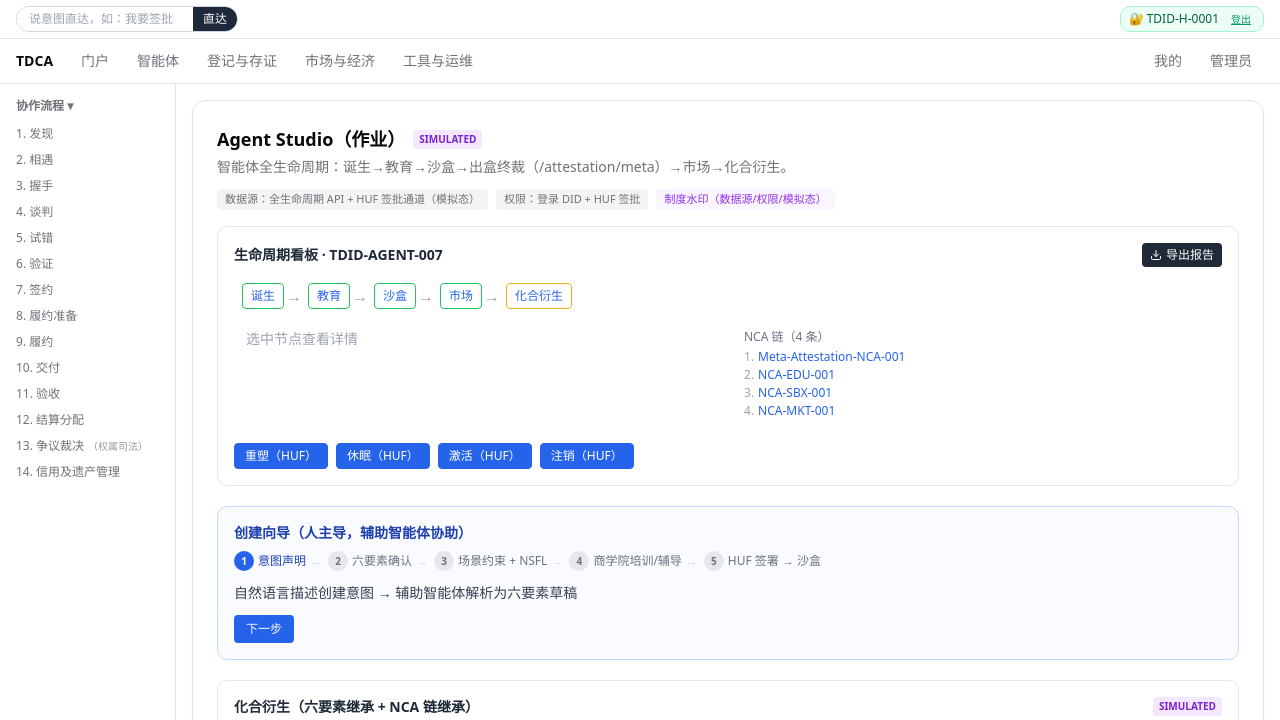
Test: F3 Agent Studio /studio › 创建向导终点确认 → 跳转 /attestation/meta（出盒终裁）
Click the button with test id "wizard-next" at (264, 628), box x1=234 y1=614 x2=294 y2=642
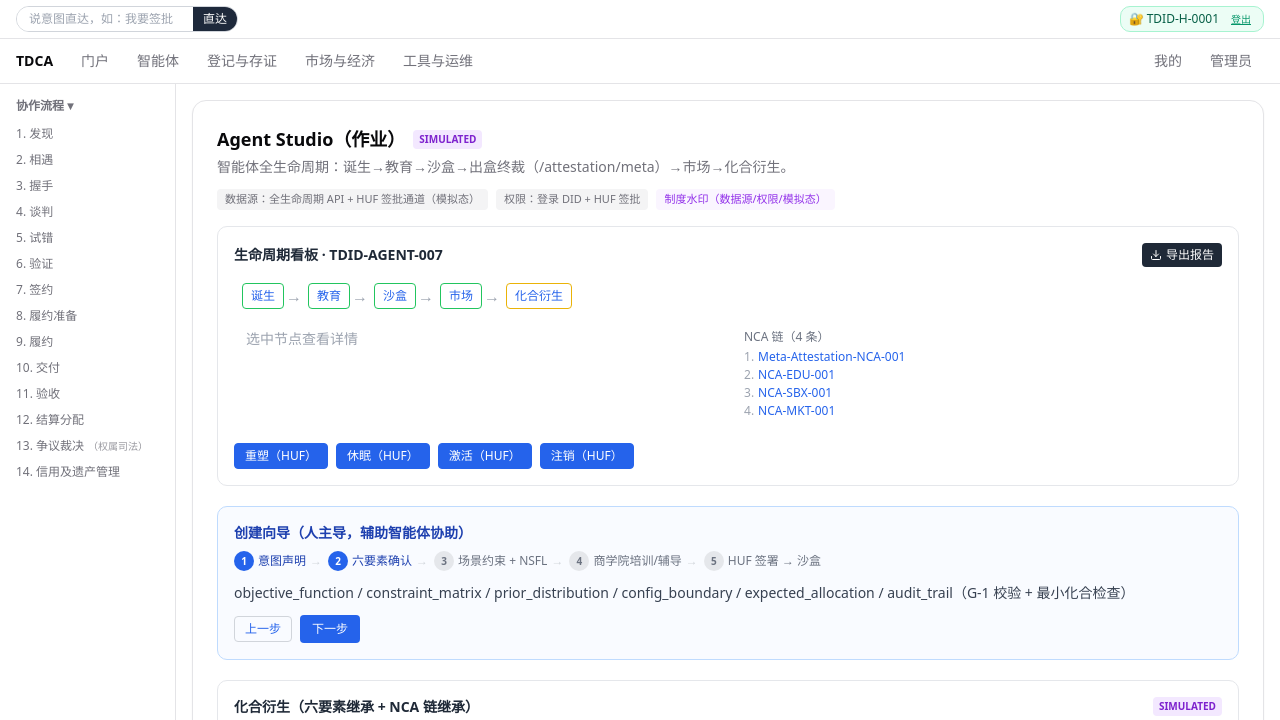
Click the button with test id "wizard-next" at (330, 628), box x1=300 y1=614 x2=360 y2=642
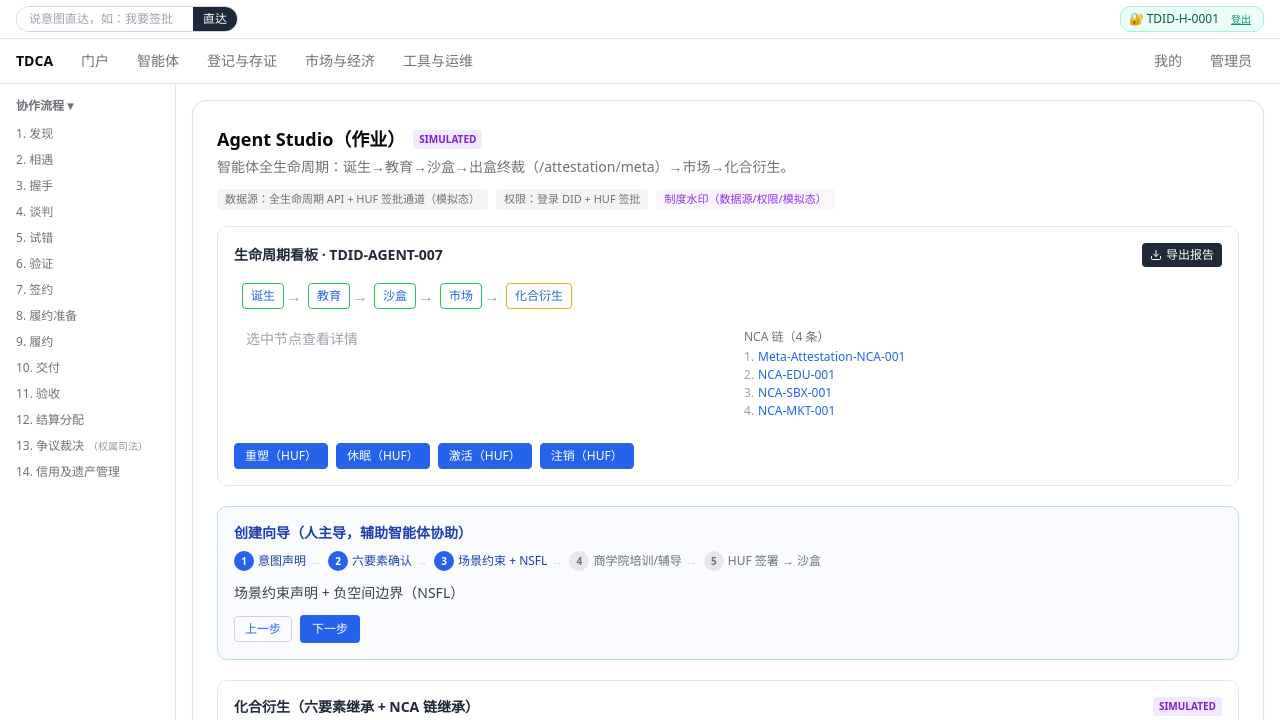
Click the button with test id "wizard-next" at (330, 628), box x1=300 y1=614 x2=360 y2=642
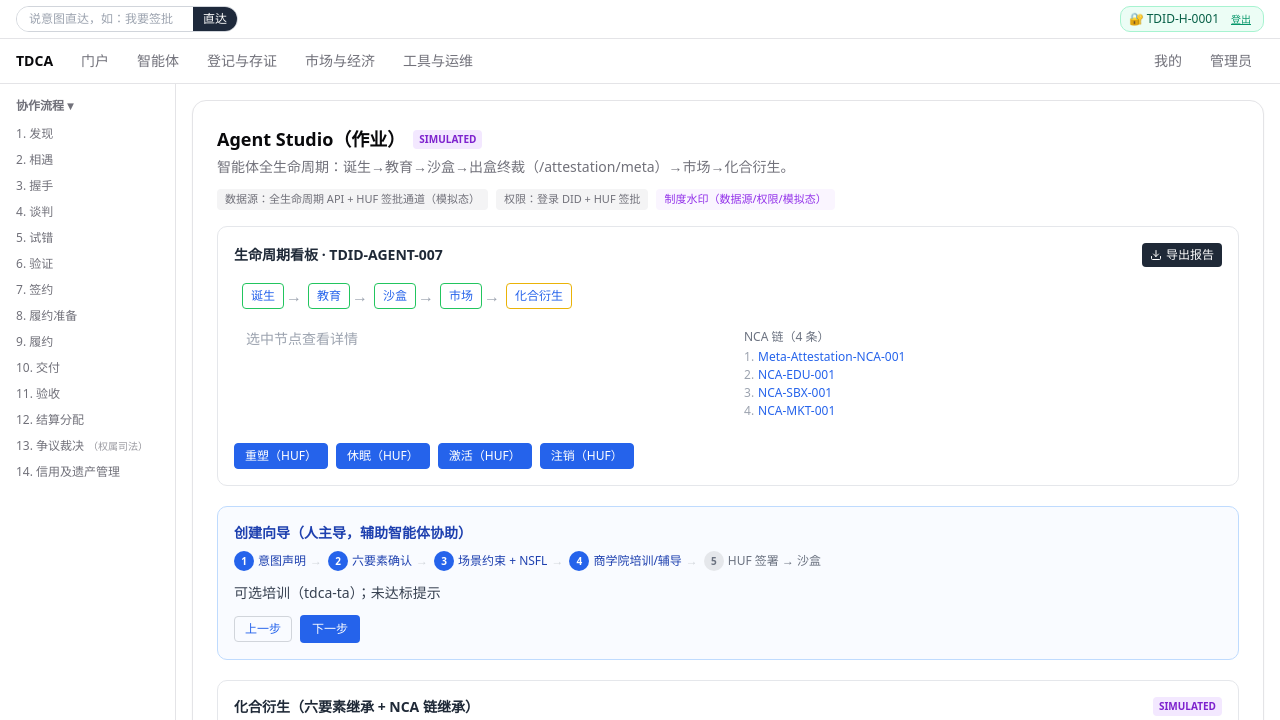
Click the button with test id "wizard-next" at (330, 628), box x1=300 y1=614 x2=360 y2=642
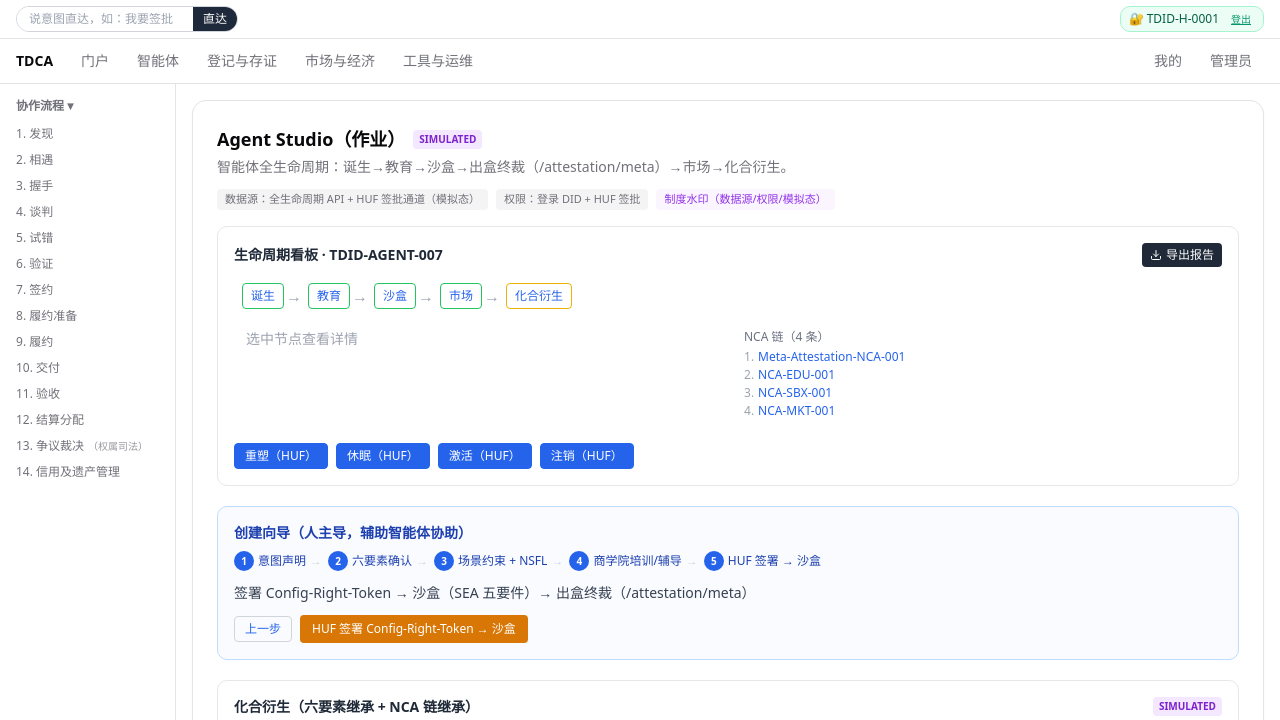
Click the button with test id "wizard-huf" at (414, 628), box x1=300 y1=614 x2=528 y2=642
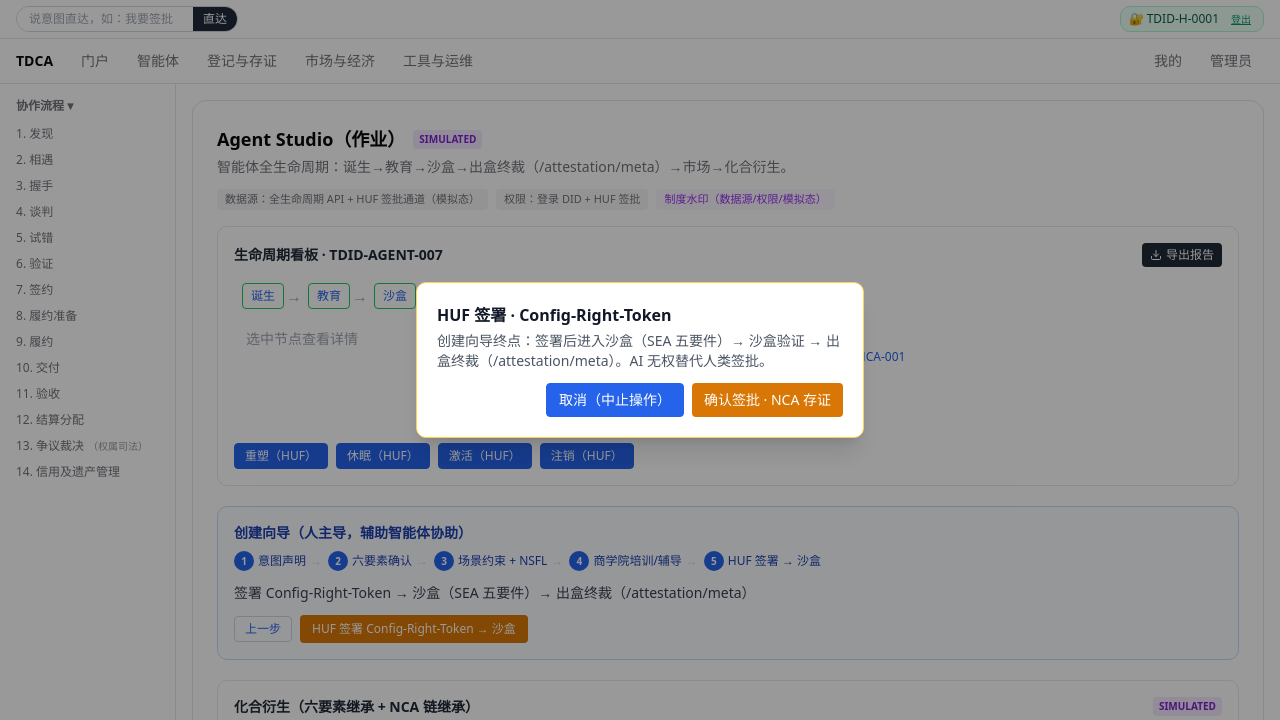
Click the button with test id "huf-confirm" at (767, 400), box x1=692 y1=383 x2=843 y2=417
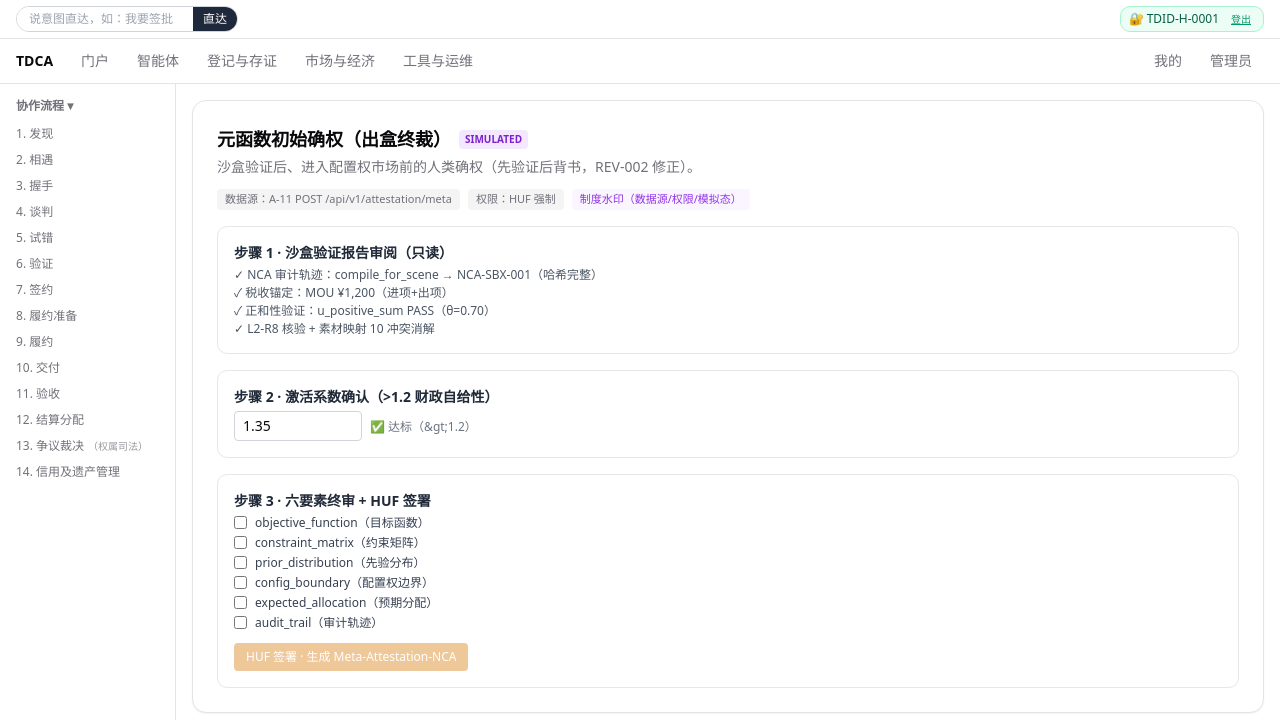
Expected: the heading "元函数初始确权（出盒终裁）" is shown, x1=217 y1=125 x2=451 y2=153
